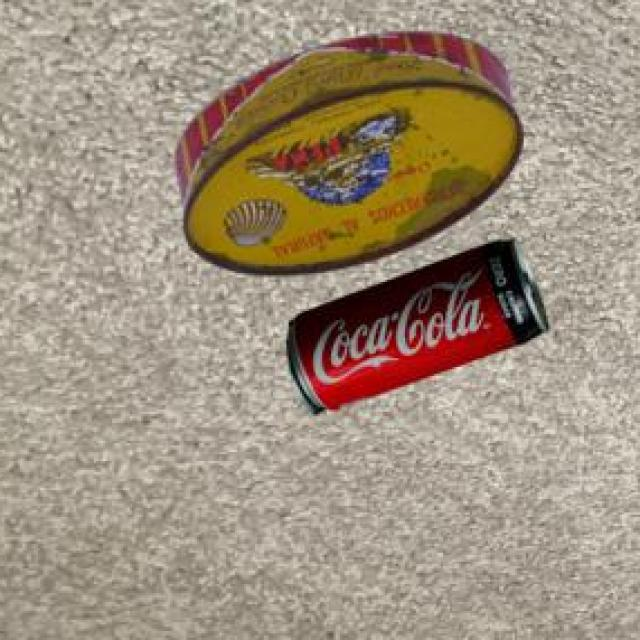logam: (178, 35, 527, 279), (290, 243, 552, 417)
